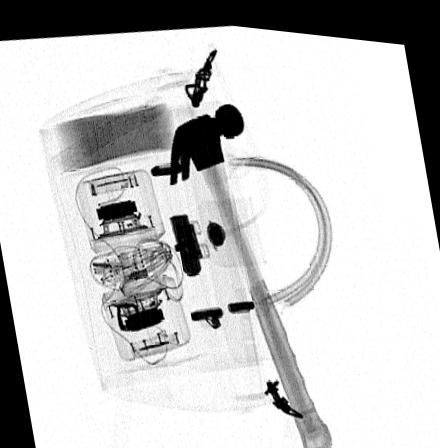Hammer: (168, 96, 333, 448)
